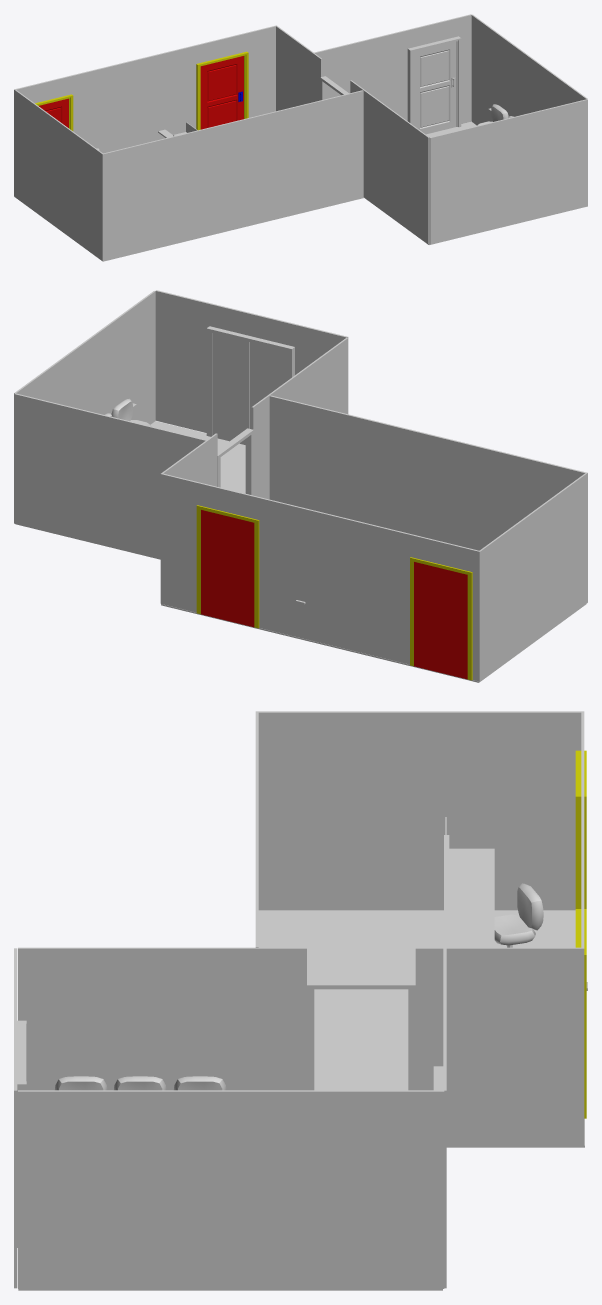
File: THERAPYROOM.fbx
3 views of the same model, one above another, from view 1: azimuth 30°, elevation 25°; view 2: azimuth 150°, elevation 25°; view 3: azimuth 270°, elevation 25° (orthographic). The views are drawn at different scales.
Visible parts, largest first — view 1: pCube52, pCube84, pCube49, pCube51, pCube48, pCube43, pCube47, pCube17, pCube81, pCube42, pCube41, pCube82 (+3 smaller); view 2: pCube52, pCube49, pCube43, pCube51, pCube84, pCube47, pCube81, pCube82, pCube48, pCube41, pCube85, pCube42 (+6 smaller); view 3: pCube47, pCube51, pCube48, pCube42, pCube39, pCube40, pCube66, pCube15, pCube83, pCube82, pCube84, pCube43 (+4 smaller).
Part boxes in pixels (x1,y1,x2,y2): pCube52: [102, 90, 363, 260]; pCube84: [429, 99, 587, 244]; pCube49: [20, 32, 247, 153]; pCube51: [14, 89, 103, 260]; pCube48: [350, 80, 429, 244]; pCube43: [314, 14, 471, 123]; pCube47: [471, 14, 587, 125]; pCube17: [413, 41, 456, 134]; pCube81: [196, 51, 248, 130]; pCube42: [275, 25, 322, 111]; pCube41: [247, 26, 275, 117]; pCube82: [35, 94, 73, 130]; pCube52: [269, 395, 587, 602]; pCube49: [197, 482, 473, 679]; pCube43: [14, 393, 206, 559]; pCube51: [479, 473, 586, 681]; pCube84: [155, 290, 348, 432]; pCube47: [14, 291, 155, 522]; pCube81: [196, 505, 259, 628]; pCube82: [410, 557, 472, 680]; pCube48: [251, 337, 347, 499]; pCube41: [162, 473, 197, 612]; pCube85: [212, 333, 249, 444]; pCube42: [160, 433, 217, 603]; pCube47: [18, 1090, 444, 1288]; pCube51: [257, 711, 584, 910]; pCube48: [18, 947, 306, 1090]; pCube42: [415, 947, 584, 1146]; pCube39: [302, 920, 419, 1090]; pCube40: [18, 910, 584, 1290]; pCube66: [449, 848, 494, 947]; pCube15: [307, 980, 415, 1090]; pCube83: [494, 883, 543, 945]; pCube82: [575, 750, 586, 908]; pCube84: [14, 948, 17, 1288]; pCube43: [443, 948, 446, 1288].
Size of the model in its own units: 2329 by 570 by 1486.
